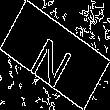N_NE: (29, 23, 81, 87)
